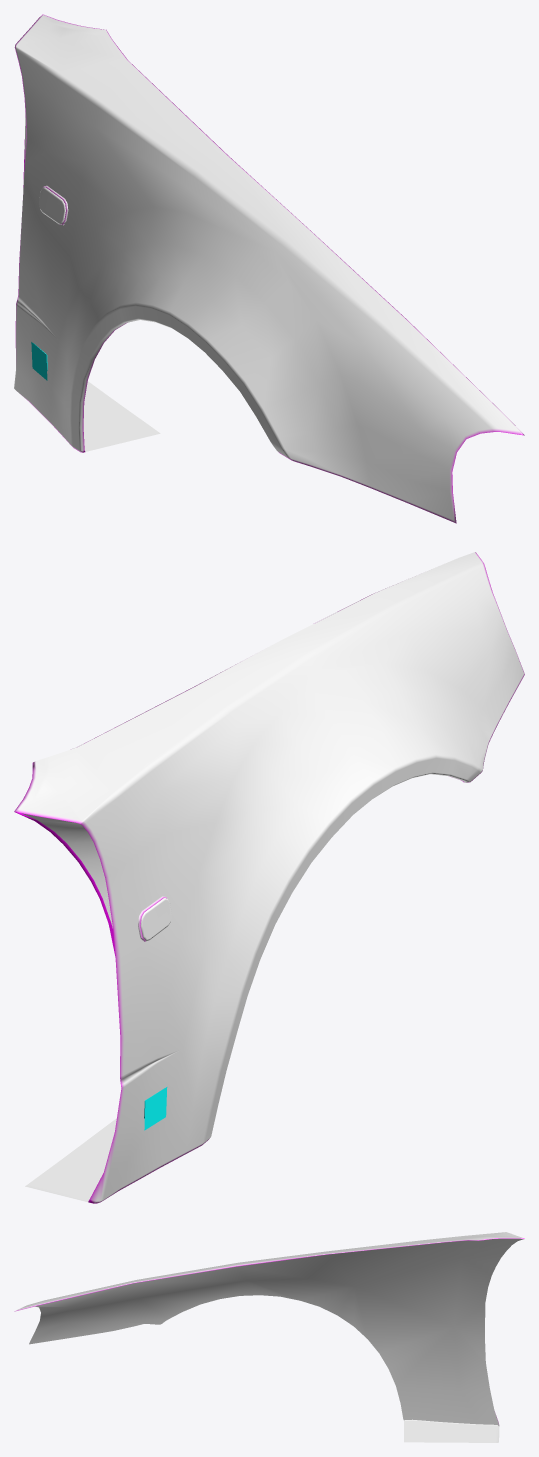
Rendered from Car_Nissan_SkylineGTRVspecR34_1999_FenderFR_SetA_AltA.fbx.
3 renders of one model, top to bottom at view 1: azimuth 30°, elevation 25°; view 2: azimuth 150°, elevation 25°; view 3: azimuth 270°, elevation 25°, orthographic. The views are drawn at different scales.
Visible parts, largest first — view 1: FenderFR 6; view 2: FenderFR 6; view 3: FenderFR 6.
Part boxes in pixels (left/top/right/bottom): FenderFR 6: left=14, top=14, right=524, bottom=523; FenderFR 6: left=14, top=552, right=524, bottom=1203; FenderFR 6: left=14, top=1232, right=524, bottom=1442.
Size of the model in its own units: 0.2093 by 0.5703 by 1.29.
